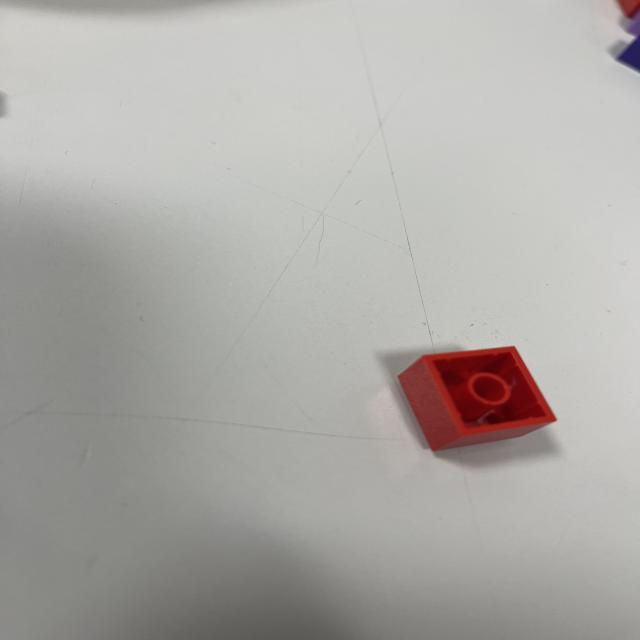C2x2x1: (398, 343, 565, 460)
